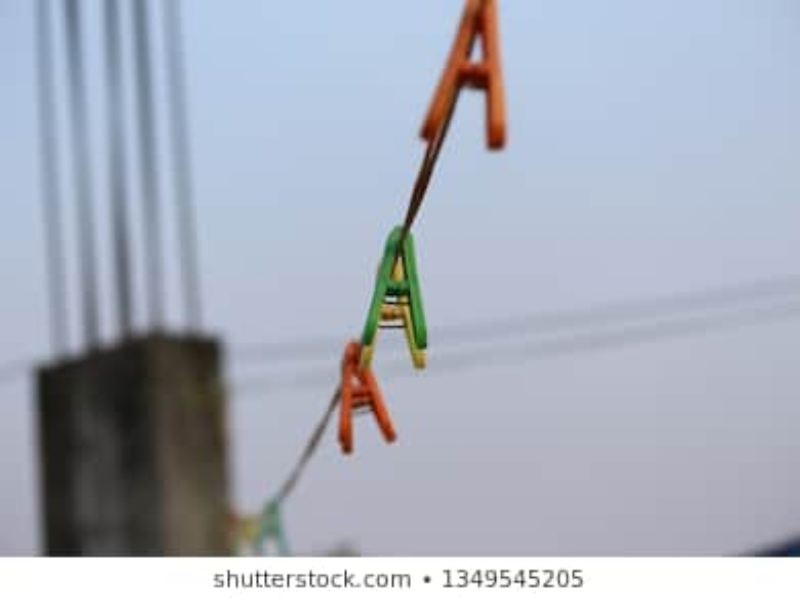plastic-peg: (420, 1, 508, 149), (360, 227, 430, 350), (333, 340, 398, 457)
